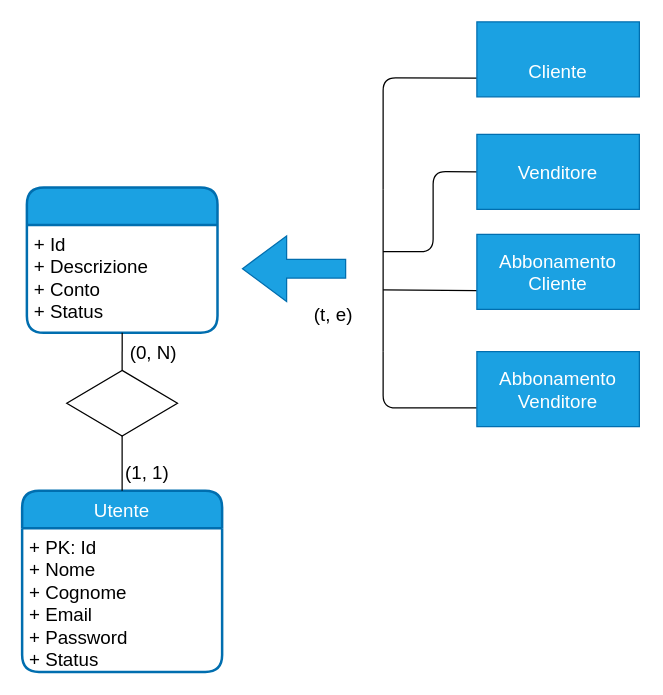
Some shapes in this 663 by 695 pixel diagram are drawn without their labels. Each missing label, with the box of its shape:
Claim: (25, 186, 218, 333)
Possiede: (66, 369, 178, 436)
